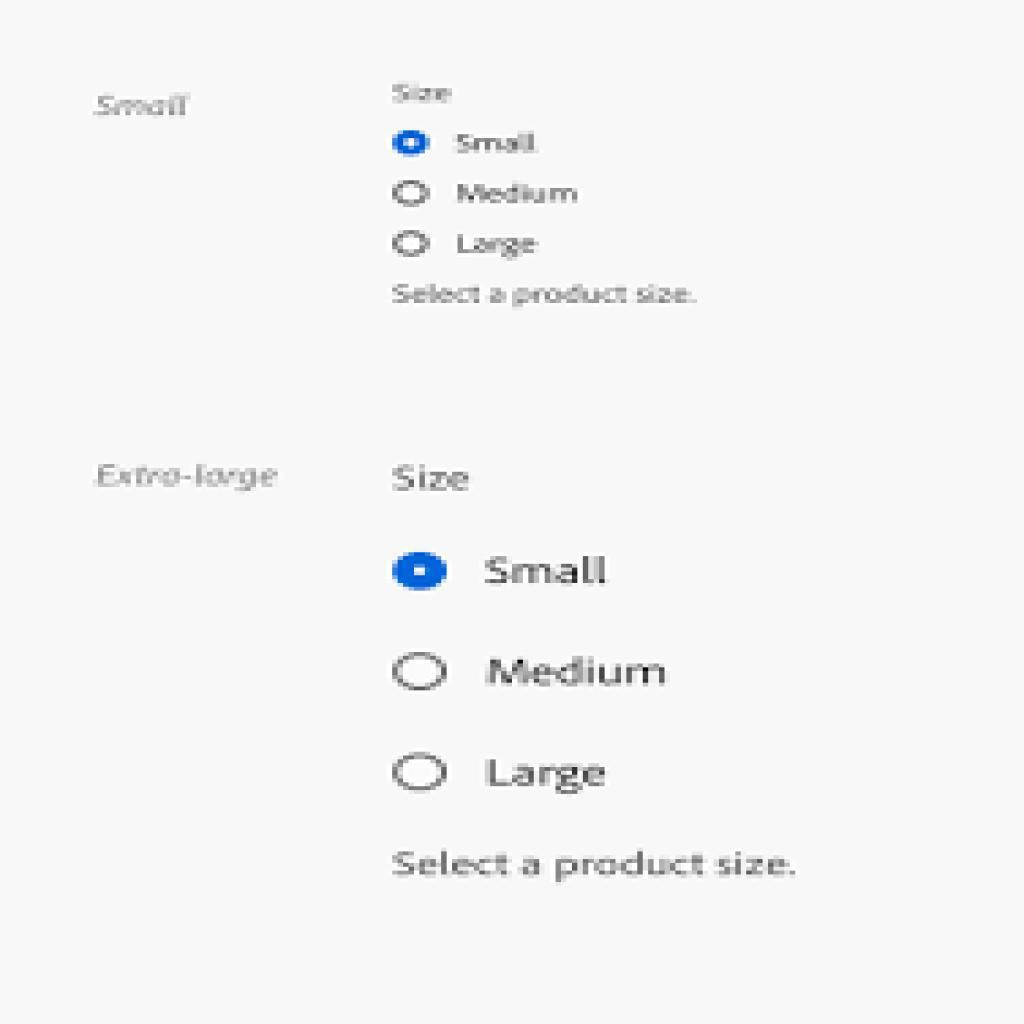radio: (386, 749, 453, 793), (390, 550, 451, 594), (393, 654, 450, 692), (389, 123, 434, 164), (389, 228, 436, 264), (388, 180, 432, 214)
